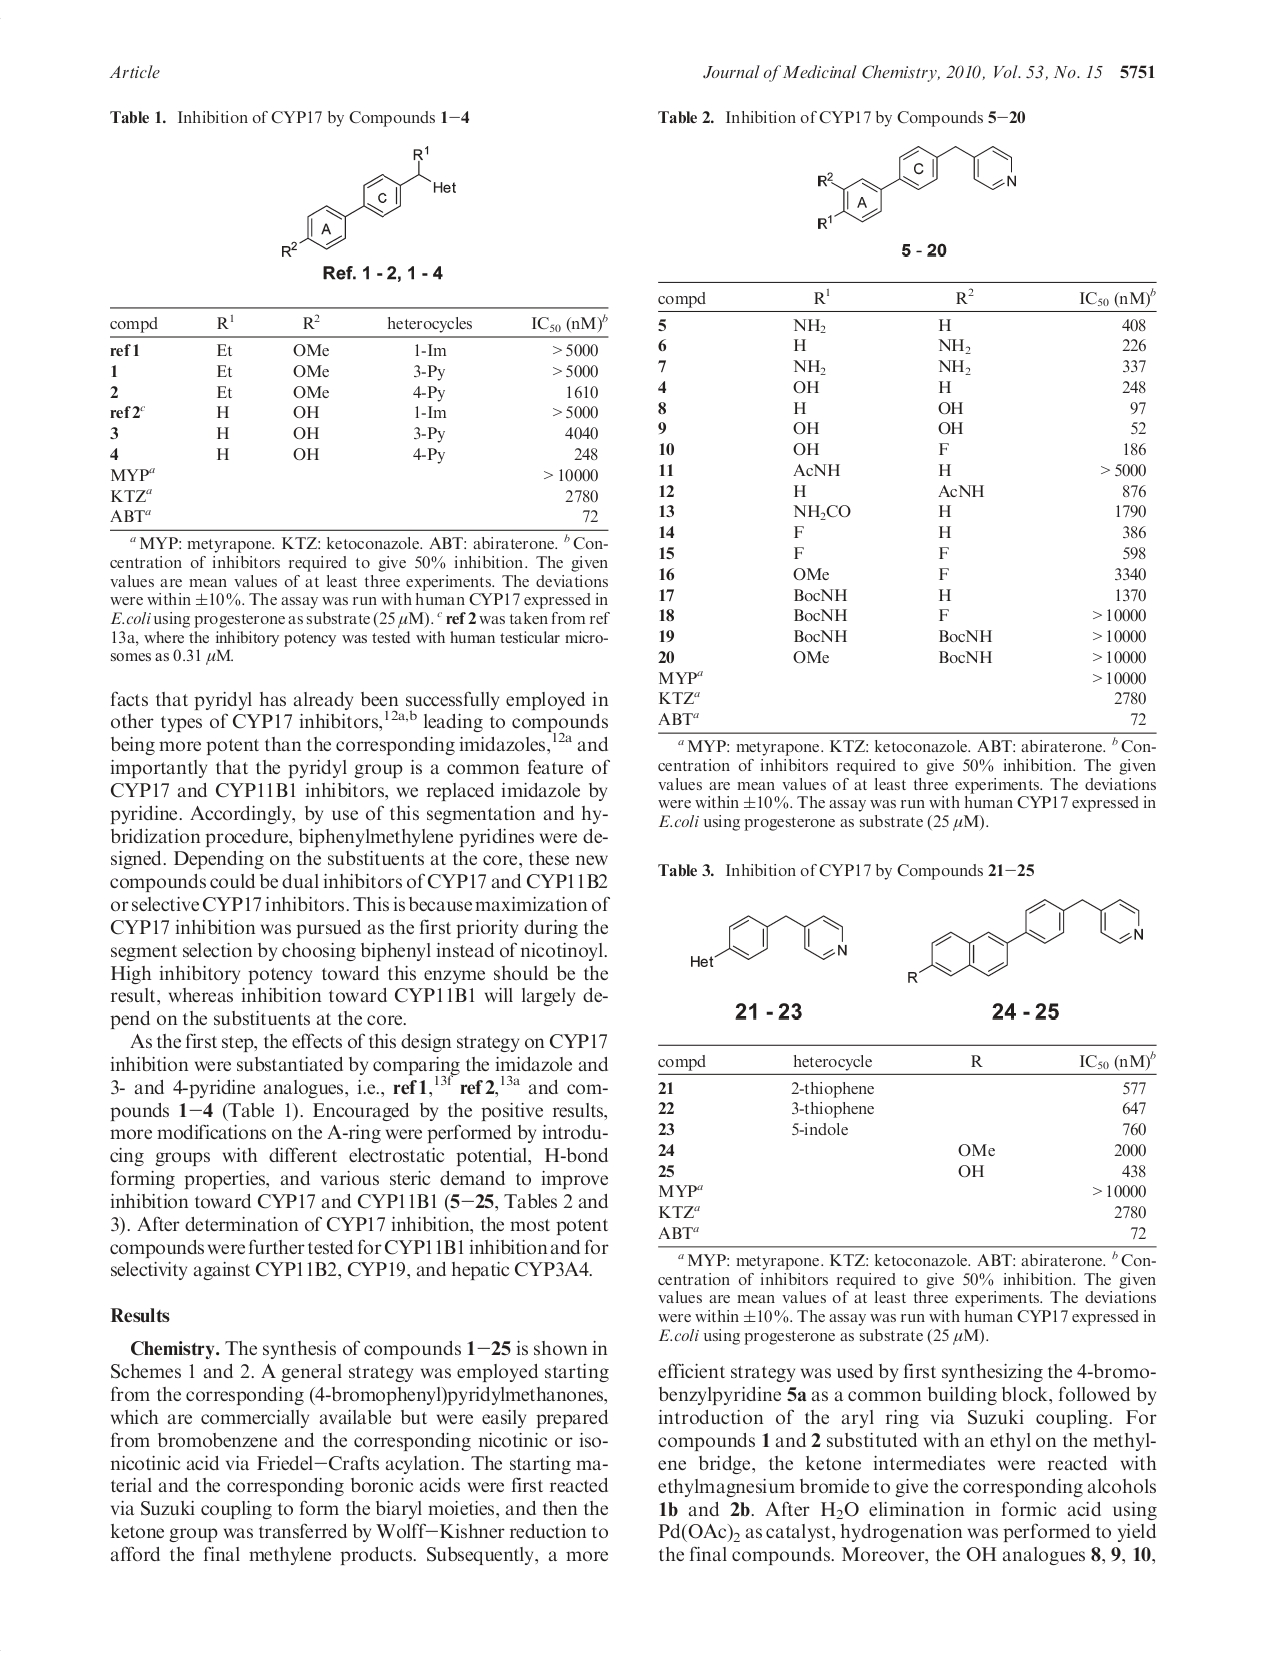exist_molecular: (906, 895, 1145, 984), (279, 144, 459, 261), (817, 142, 1019, 231), (689, 914, 847, 969)
